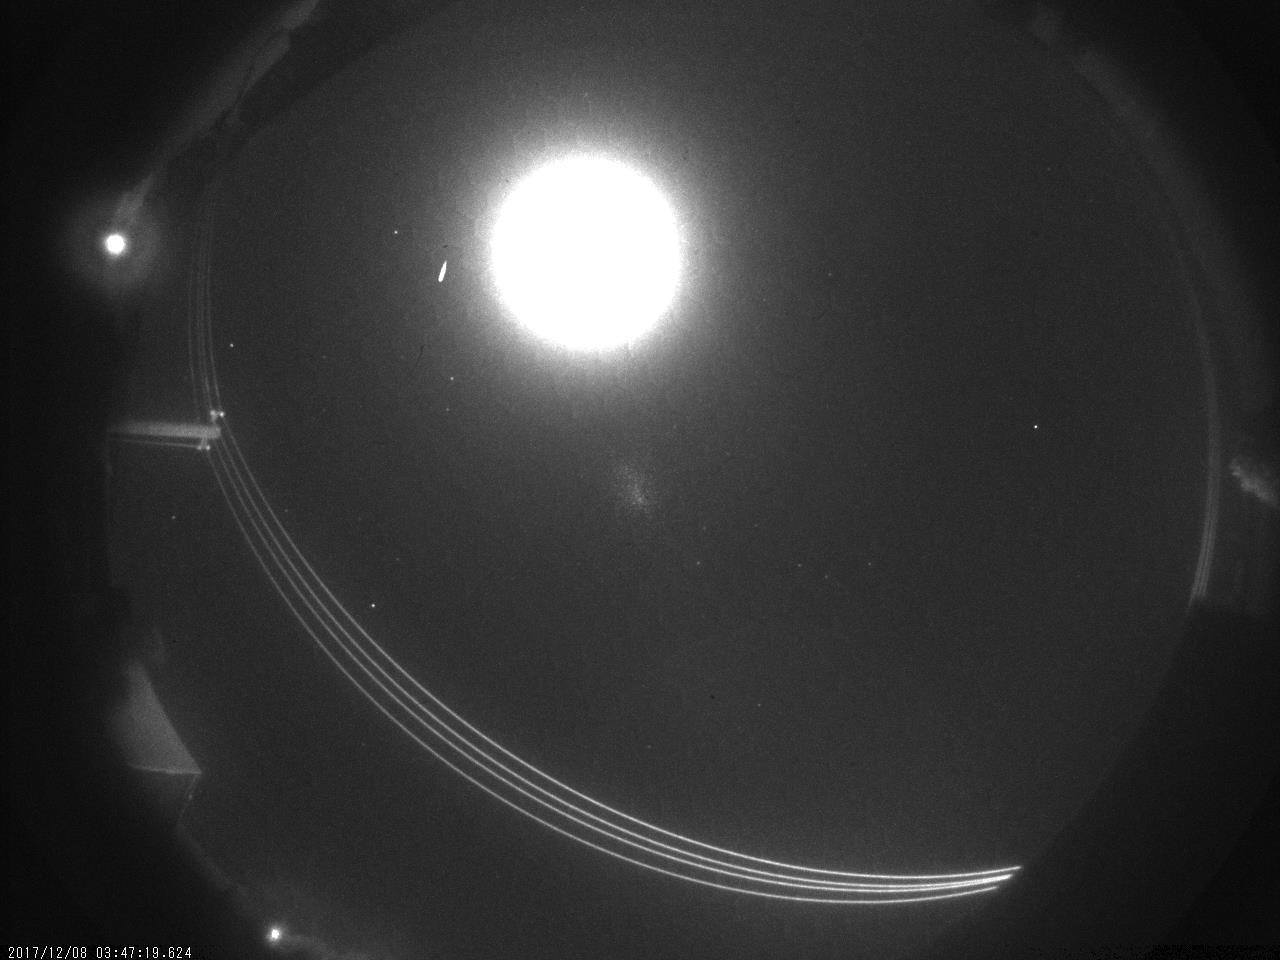Meteor: (434, 255, 447, 284)
